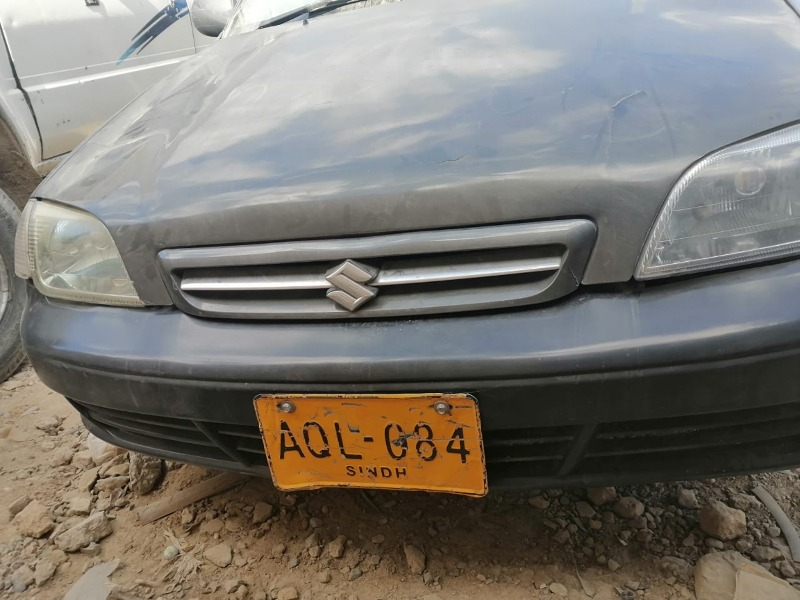License Plate: (248, 390, 494, 502)
